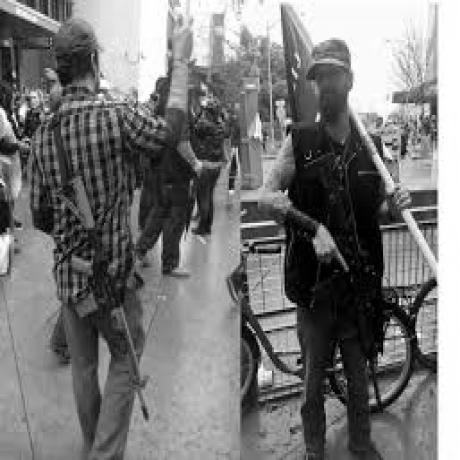Guns: (50, 161, 162, 431), (314, 193, 389, 412)
